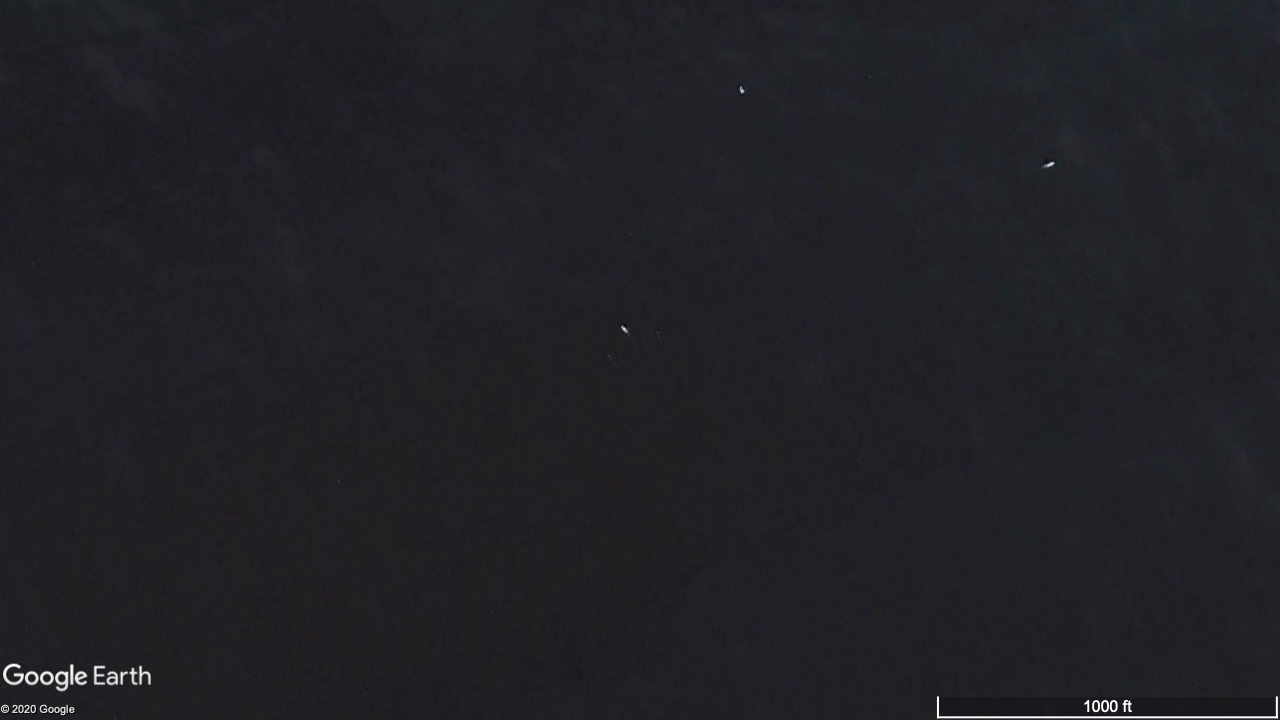boat: (1042, 161, 1054, 168), (738, 84, 746, 93), (622, 325, 630, 333)
